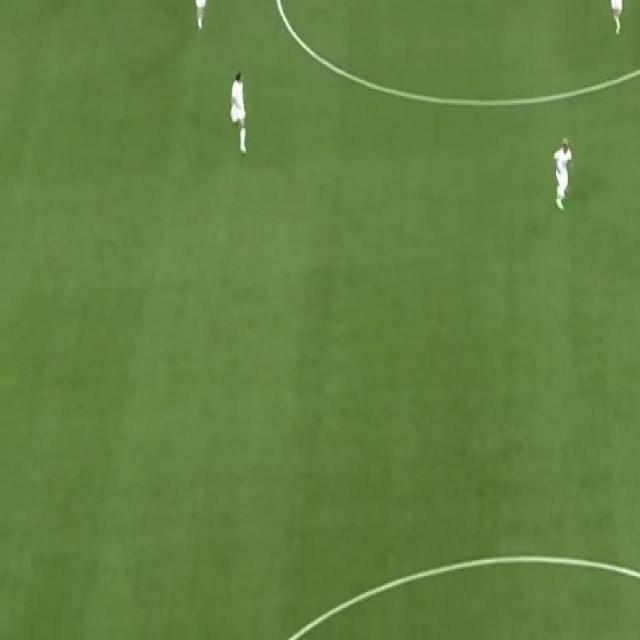player-white: (552, 139, 573, 211), (230, 70, 248, 154), (607, 0, 627, 36), (190, 0, 211, 28)
